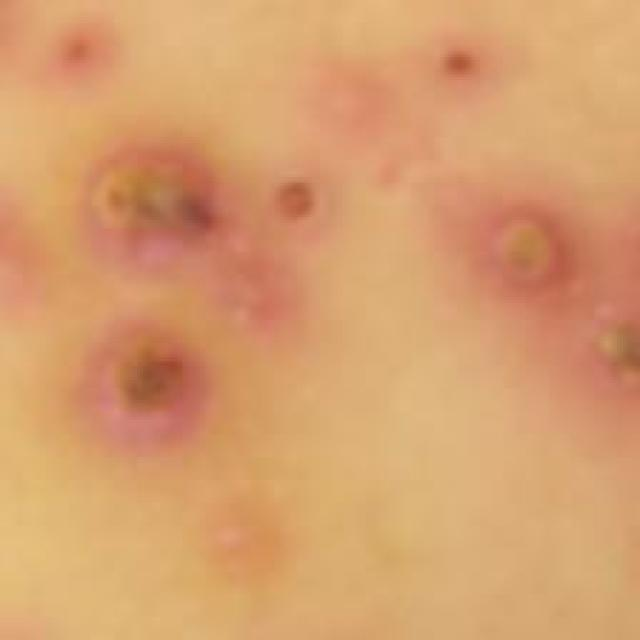others: (34, 25, 640, 542)
